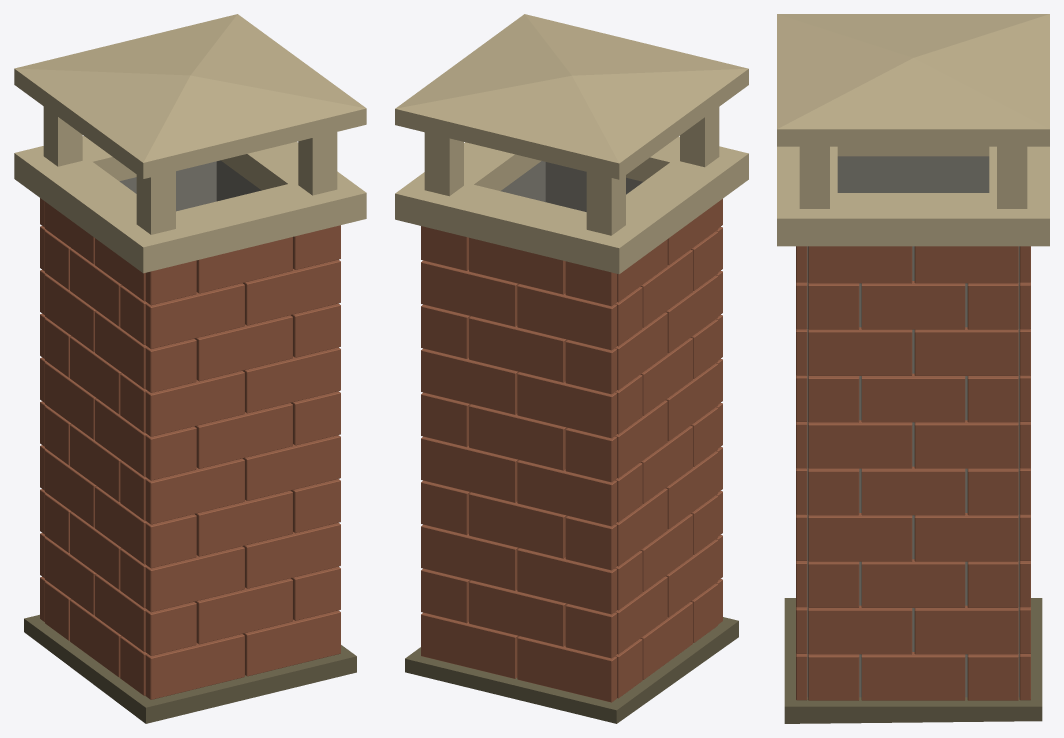
Rendered from rpg-mansion-hollow-brick-chimney-01.glb.
3 renders of one model, left to right at view 1: azimuth 30°, elevation 25°; view 2: azimuth 150°, elevation 25°; view 3: azimuth 270°, elevation 25°, orthographic. The views are drawn at different scales.
Parts seen in each view (by area): view 1: rpg-mansion-hollow-brick-chimney-01; view 2: rpg-mansion-hollow-brick-chimney-01; view 3: rpg-mansion-hollow-brick-chimney-01.
Boxes of the visible parts, x1=… form: rpg-mansion-hollow-brick-chimney-01: x1=14, y1=14, x2=366, y2=723; rpg-mansion-hollow-brick-chimney-01: x1=395, y1=14, x2=748, y2=723; rpg-mansion-hollow-brick-chimney-01: x1=777, y1=14, x2=1049, y2=723.
Bounding box in the file's own units: 0.72 × 1.78 × 0.72.
